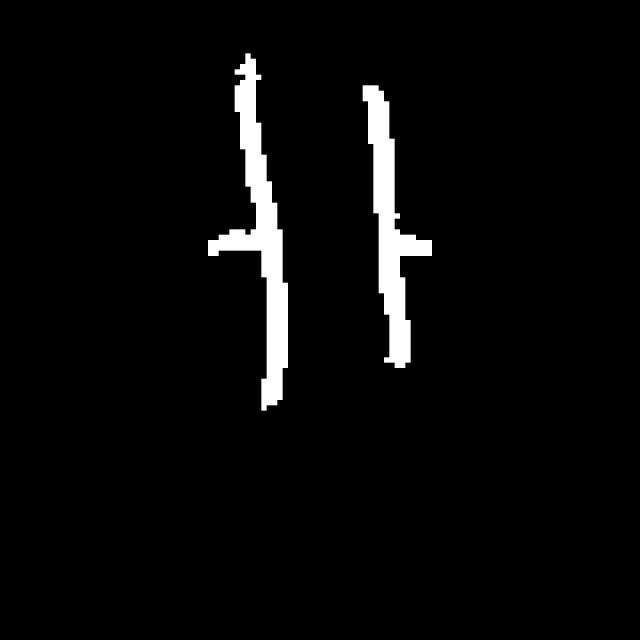capacitor: (218, 46, 427, 420)
